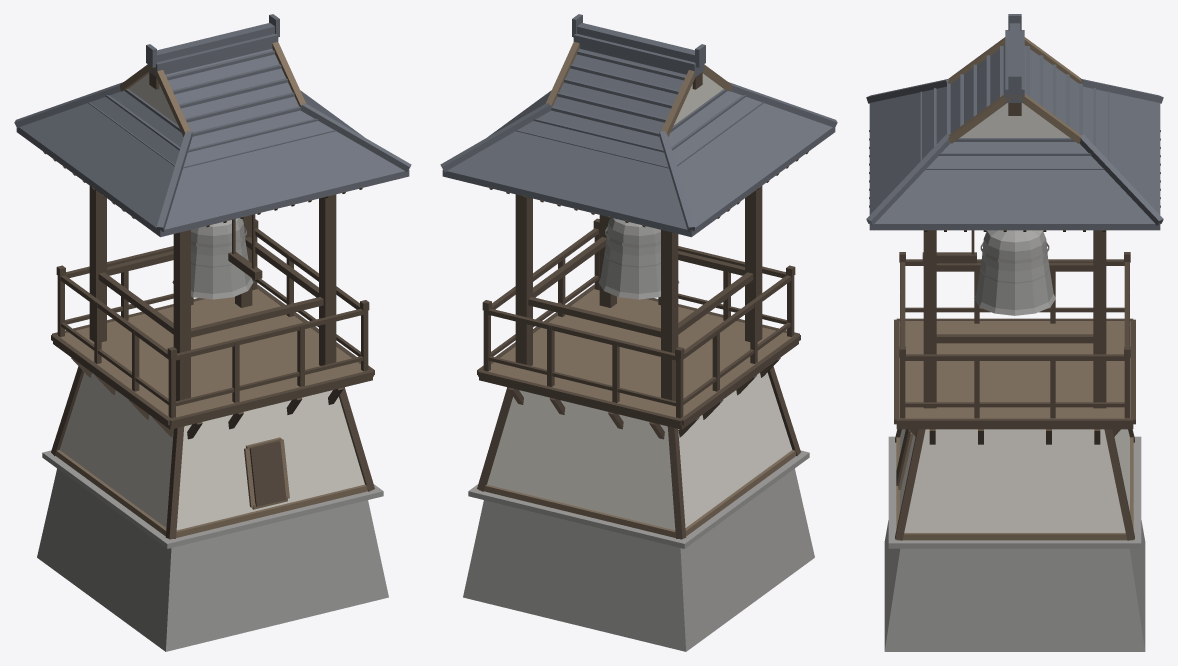
File: tower_bell_p.glb
3 renders of one model, left to right at view 1: azimuth 30°, elevation 25°; view 2: azimuth 150°, elevation 25°; view 3: azimuth 270°, elevation 25°, orthographic.
Visible parts, largest first — view 1: tower_bell_p; view 2: tower_bell_p; view 3: tower_bell_p.
Boxes of the visible parts, x1=… form: tower_bell_p: x1=14, y1=14, x2=411, y2=651; tower_bell_p: x1=440, y1=14, x2=837, y2=651; tower_bell_p: x1=866, y1=14, x2=1163, y2=651.
Size of the model in its own units: 7.42 by 15.18 by 7.42.
